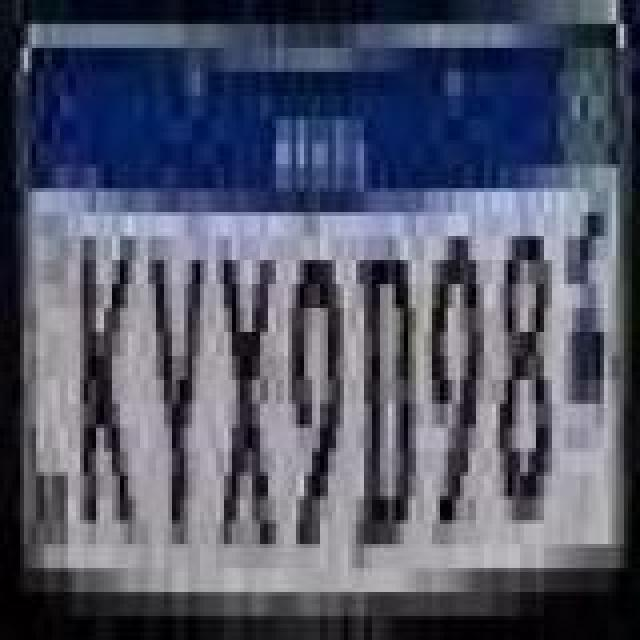8: (494, 224, 554, 528)
9: (426, 232, 486, 536), (288, 248, 344, 552)
D: (352, 246, 416, 554)
K: (78, 226, 138, 542)
X: (216, 240, 280, 552)
Y: (148, 240, 204, 544)
